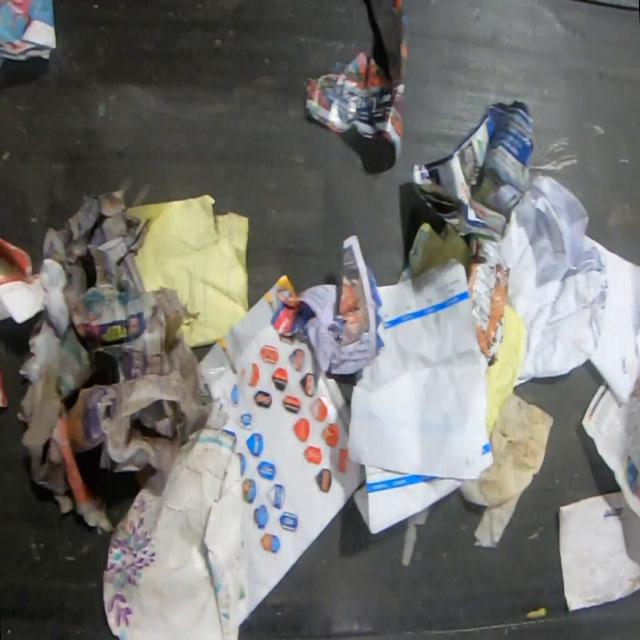cardboard: (101, 428, 244, 639), (15, 366, 116, 538), (486, 303, 526, 442), (396, 221, 470, 285), (0, 0, 58, 63)
soft_plastic: (94, 340, 214, 477)
